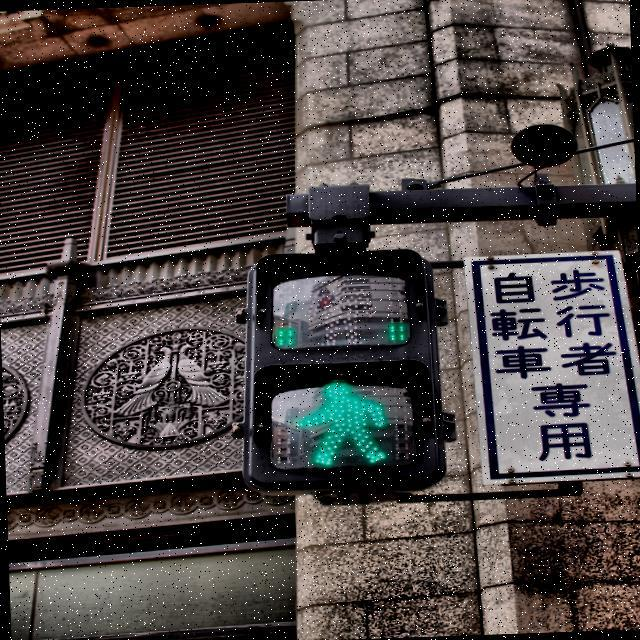green_light: (290, 378, 394, 472)
